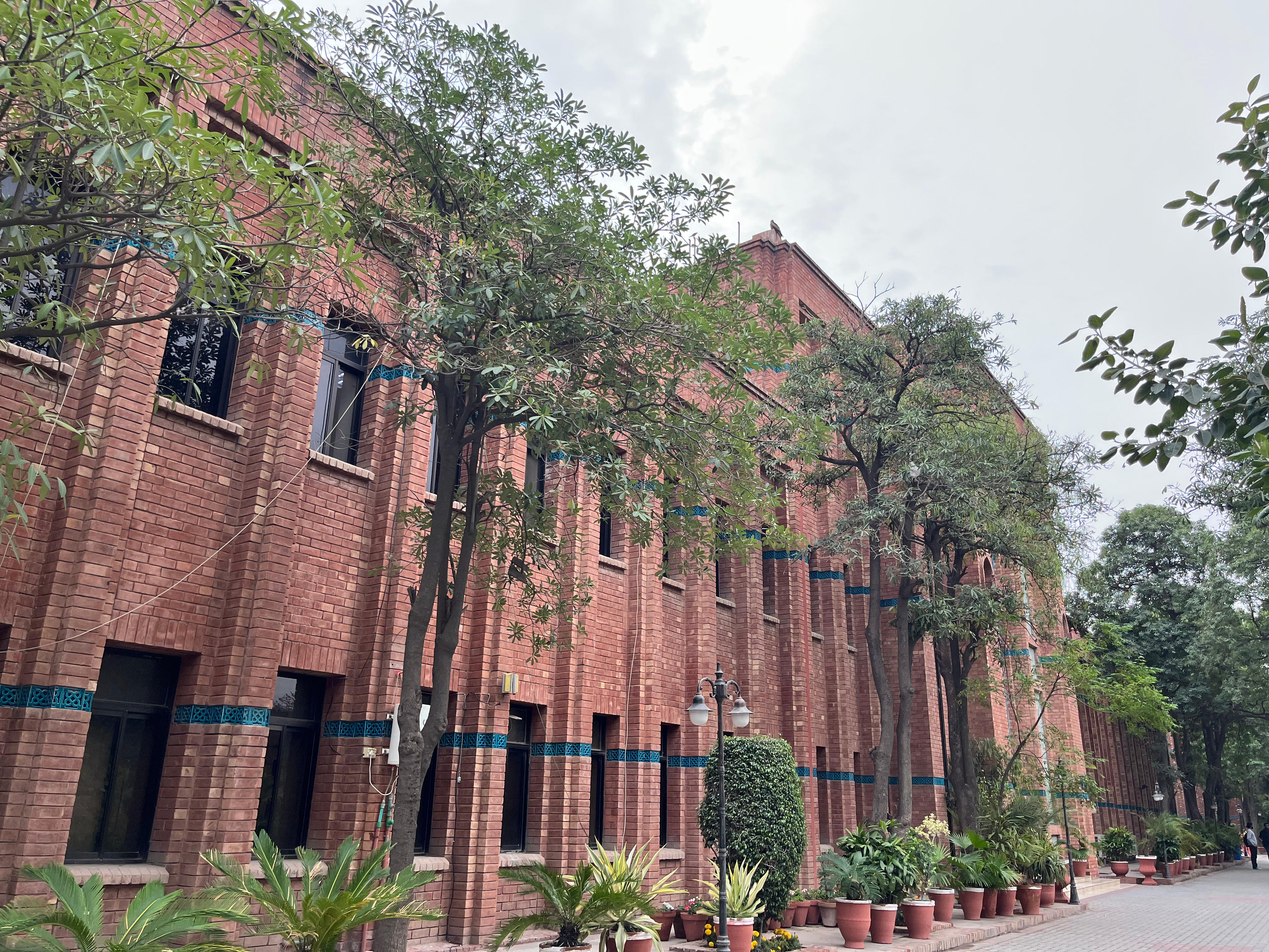Block A: (6, 3, 1253, 873)
